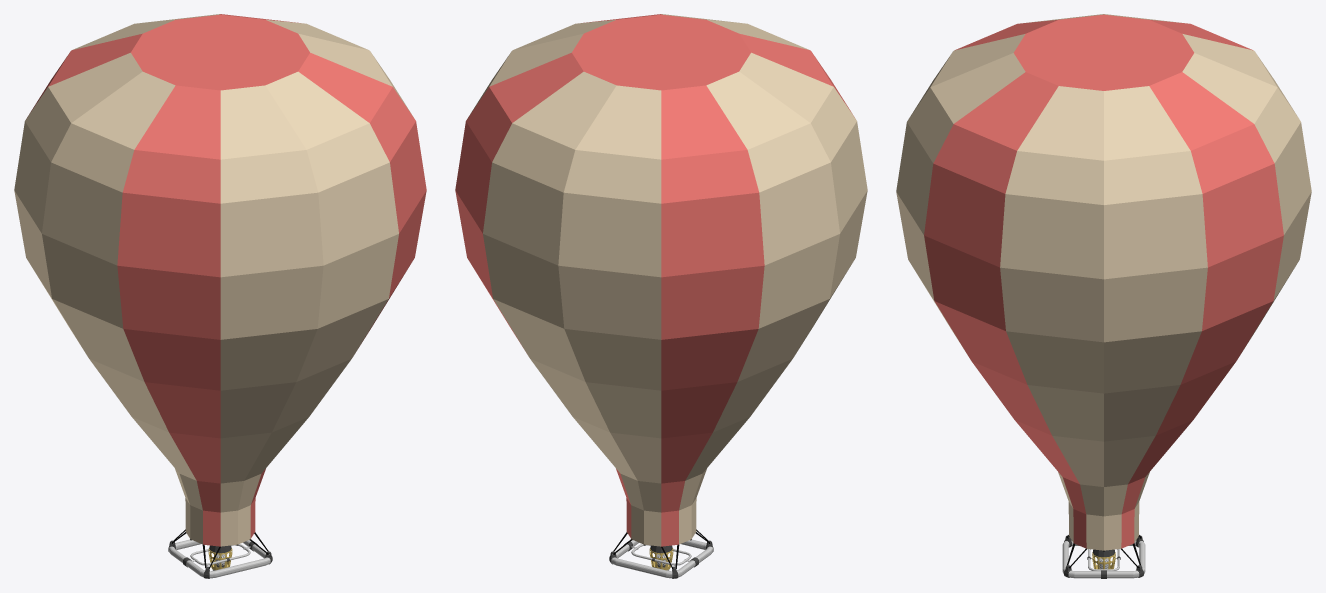
File: Balloon.fbx
3 renders of one model, left to right at view 1: azimuth 30°, elevation 25°; view 2: azimuth 150°, elevation 25°; view 3: azimuth 270°, elevation 25°, orthographic.
Visible parts, largest first — view 1: Balloon, OuterFrame; view 2: Balloon, OuterFrame; view 3: Balloon, OuterFrame.
Part boxes in pixels (bbox=[...]): Balloon: bbox=[14, 14, 426, 568]; OuterFrame: bbox=[168, 539, 272, 578]; Balloon: bbox=[455, 14, 867, 569]; OuterFrame: bbox=[609, 539, 713, 578]; Balloon: bbox=[896, 14, 1311, 568]; OuterFrame: bbox=[1062, 535, 1145, 578].
Bounding box in the file's own units: 880 × 1227 × 880.
